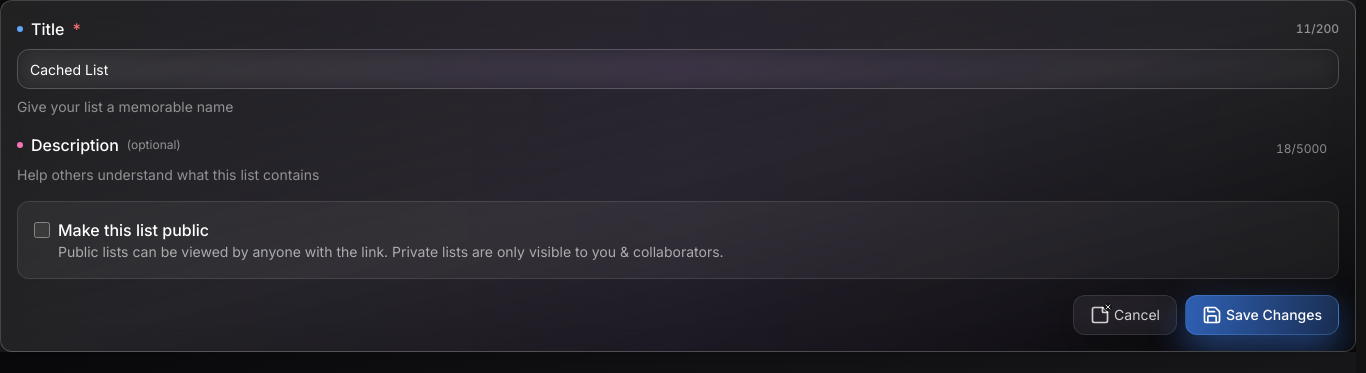
Scenario: list dialog completion › keeps edit pending until the committed list cache can paint, then closes
Click the button "Save Changes": (1262, 315) [1185,295,1339,335]
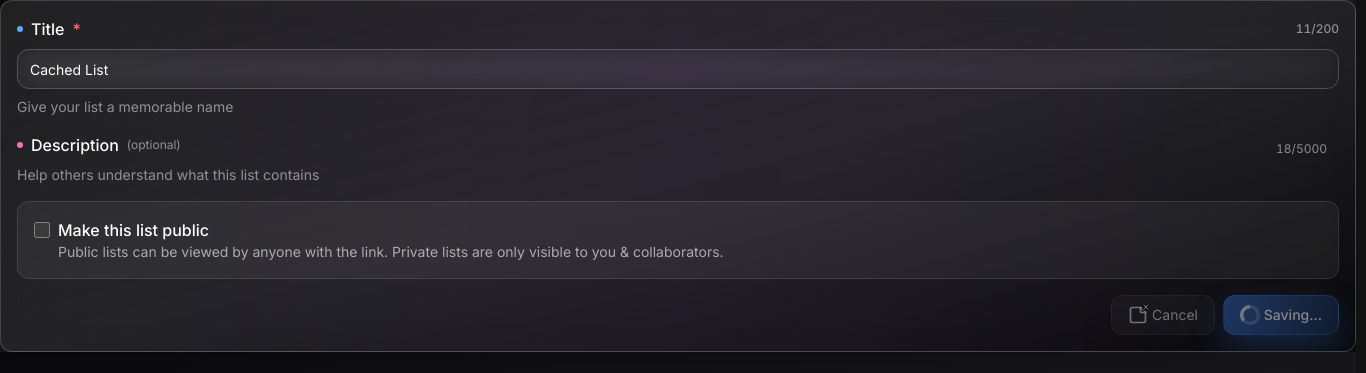
Now the button "Saving…" is disabled, box [1223,295,1339,335]
